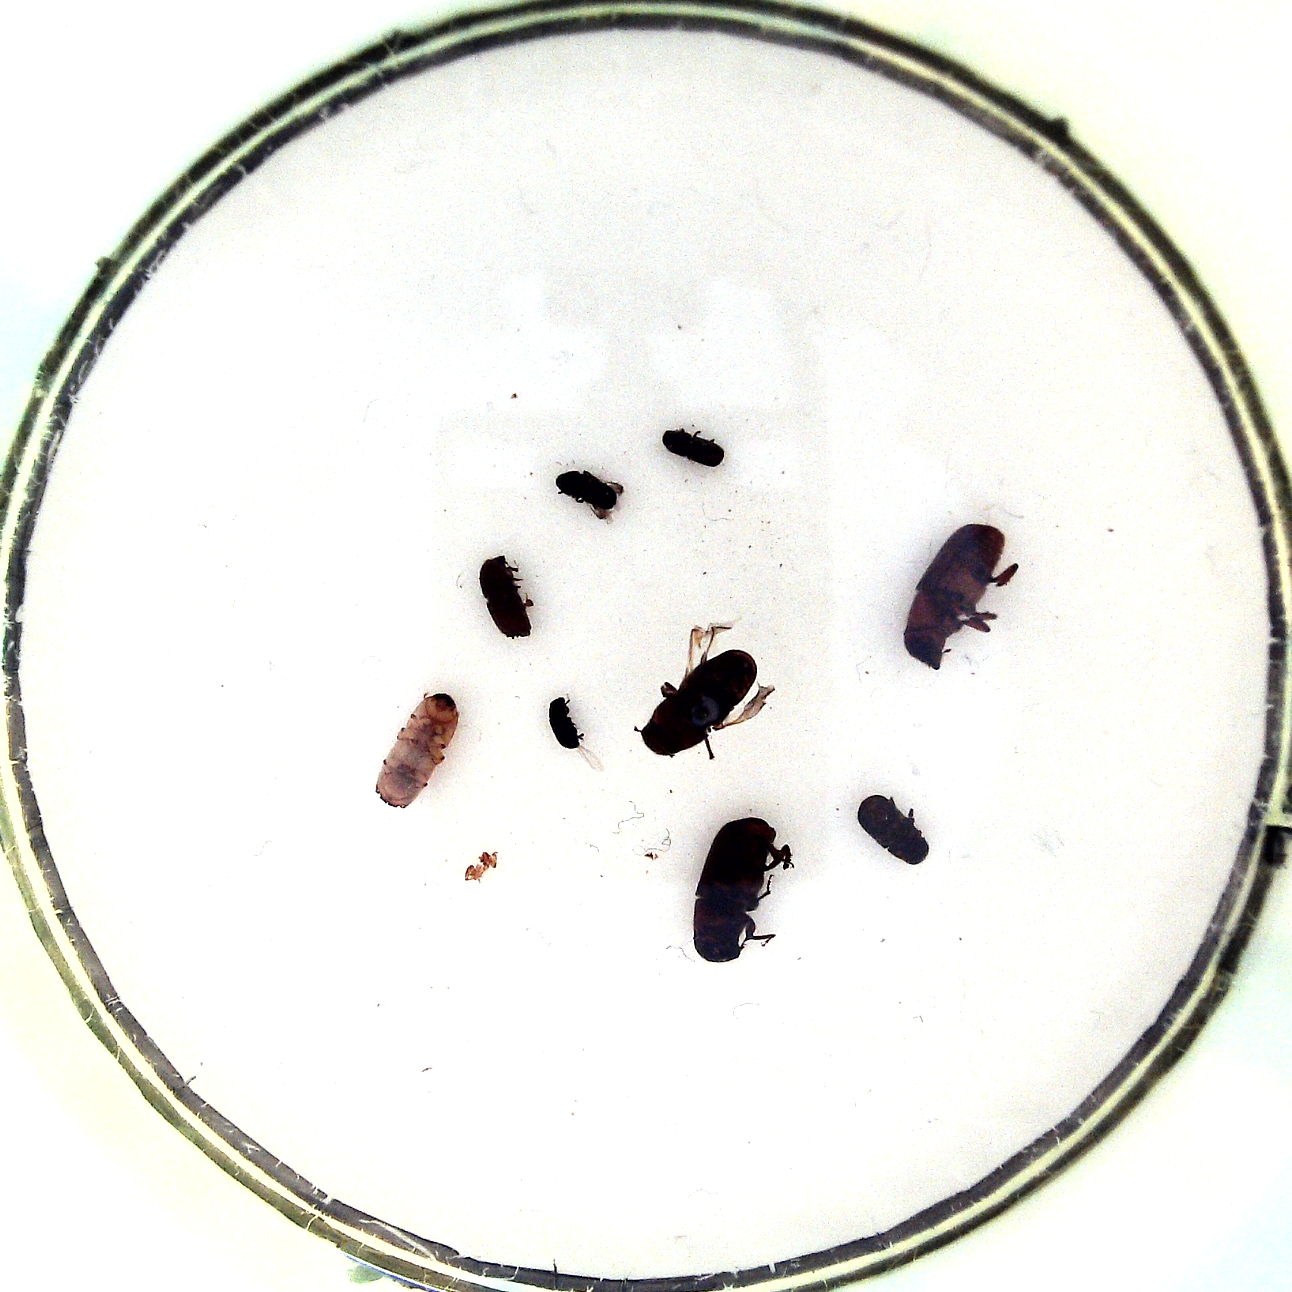Boerner: (364, 686, 465, 810)
Leconte: (625, 616, 781, 758), (894, 521, 1020, 676), (687, 810, 799, 971)
Linnaeus: (476, 550, 542, 648)
armandi: (852, 786, 937, 868)
coleoptera: (544, 691, 606, 769), (553, 464, 632, 523), (660, 422, 726, 472)
